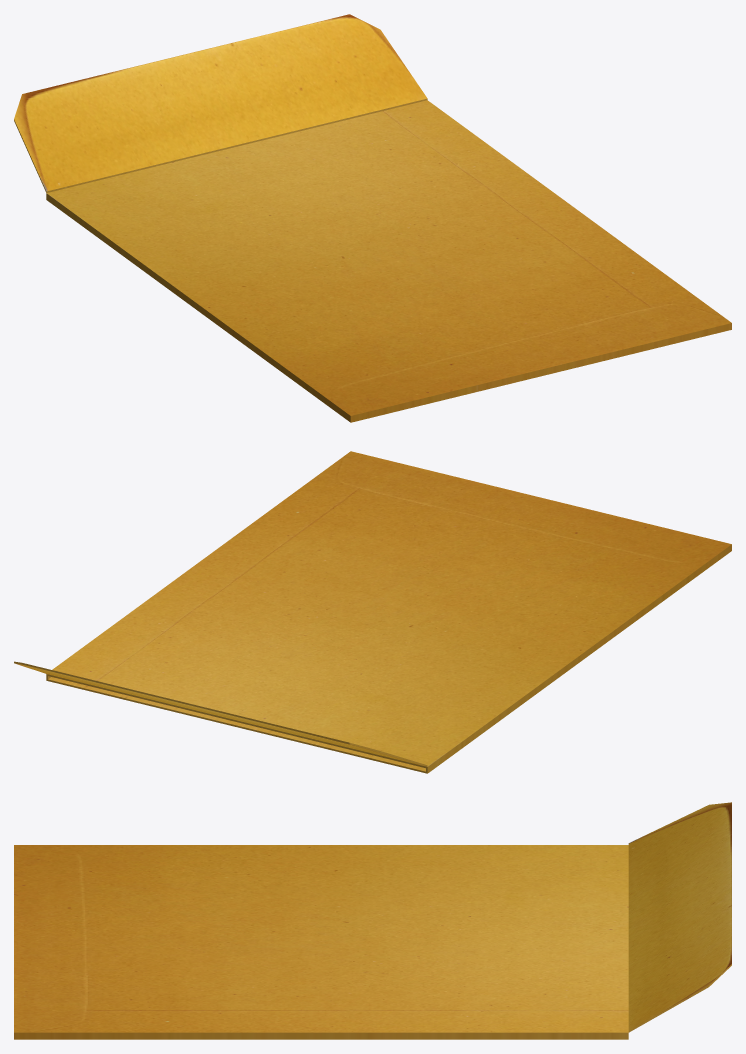
File: KraftEnvelope_Open.fbx
The picture shows the model from 3 angles, top to bottom: view 1: azimuth 30°, elevation 25°; view 2: azimuth 150°, elevation 25°; view 3: azimuth 270°, elevation 25°; orthographic projection.
Visible parts, largest first — view 1: KraftEnvelope_Open; view 2: KraftEnvelope_Open; view 3: KraftEnvelope_Open.
Part boxes in pixels (<box>): KraftEnvelope_Open: <box>14,14,731,422</box>; KraftEnvelope_Open: <box>14,451,731,773</box>; KraftEnvelope_Open: <box>14,802,731,1039</box>.
Size of the model in its own units: 23.5 by 3.65 by 37.96.
